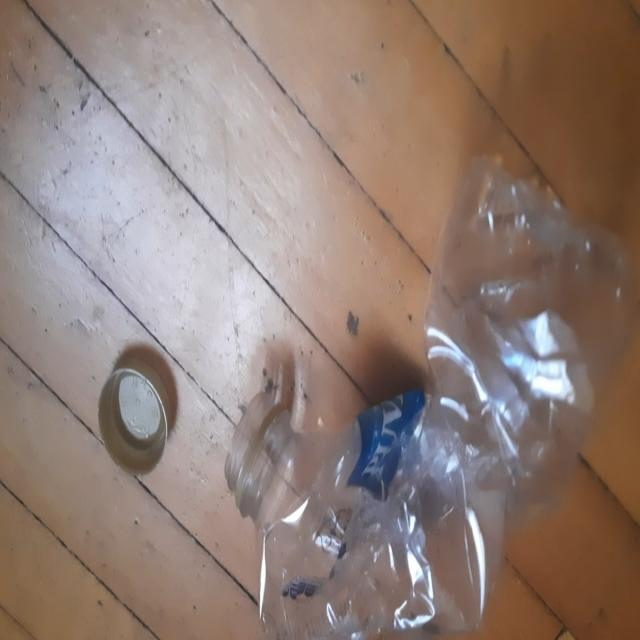Plastic: (240, 154, 636, 637)
